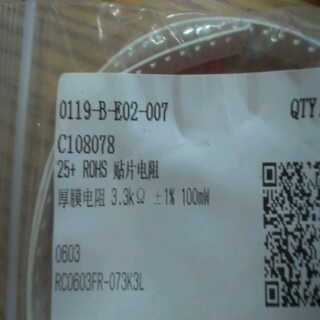3.3kO: (105, 182, 151, 214)
